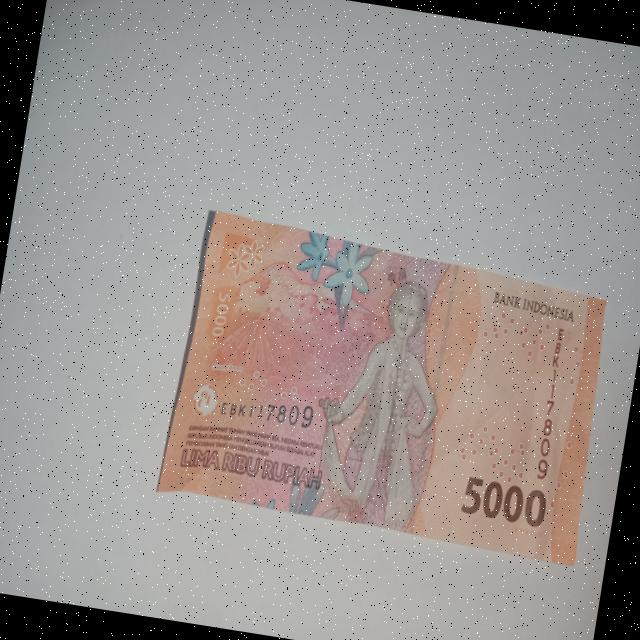5K: (154, 198, 628, 580)
